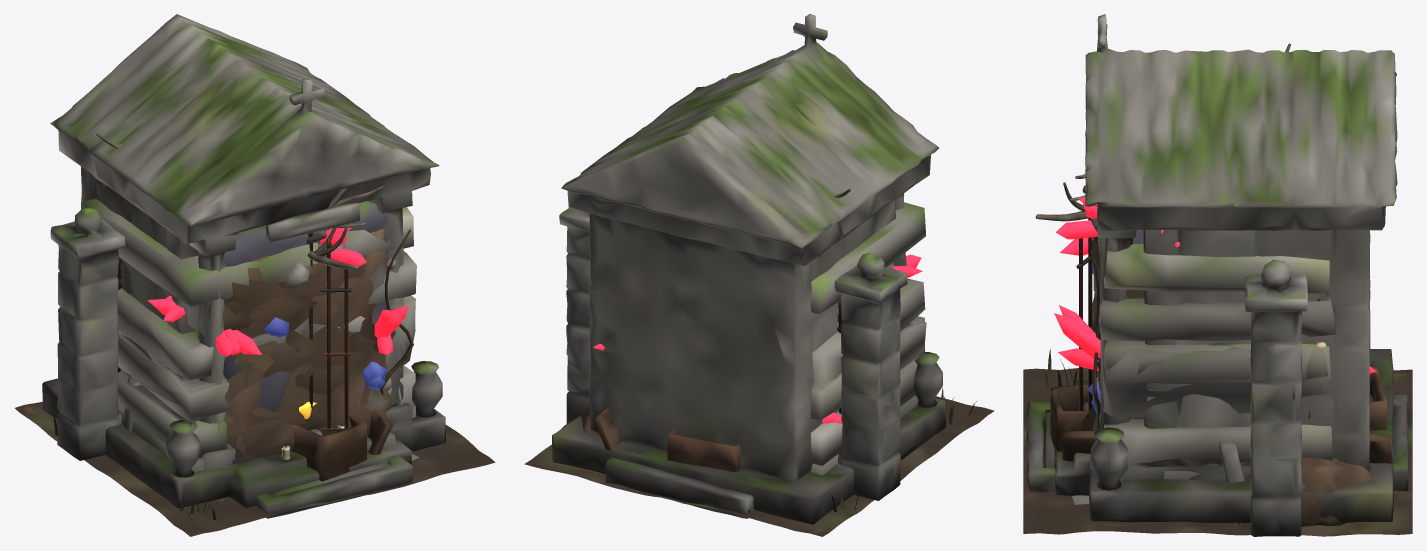
Rendered from bioma_cementerio.glb.
The picture shows the model from 3 angles, left to right: view 1: azimuth 30°, elevation 25°; view 2: azimuth 150°, elevation 25°; view 3: azimuth 270°, elevation 25°; orthographic projection. The views are drawn at different scales.
Parts seen in each view (by area): view 1: deco_mausoleo_malla, deco_reja_malla, pared_dura_b_malla, pared_dura_a_malla, veta_sangre_malla, pared_blanda_a_malla, pared_blanda_b_malla, pared_borde_malla, pared_blanda_c_malla, deco_tumba_losa_malla, veta_hierro_malla, deco_ataud_malla (+7 smaller); view 2: deco_mausoleo_malla, deco_reja_malla, pared_dura_b_malla, pared_dura_a_malla, deco_tumba_losa_malla, deco_ataud_malla, piso_a_malla, piso_d_malla, piso_b_malla, piso_c_malla, veta_sangre_malla; view 3: deco_mausoleo_malla, pared_dura_a_malla, deco_reja_malla, pared_dura_b_malla, piso_a_malla, deco_ataud_malla, deco_tumba_losa_malla, veta_sangre_malla, deco_fosa_malla, piso_d_malla, piso_c_malla, piso_b_malla (+3 smaller).
Part boxes in pixels (x1,y1,x2,y2): deco_mausoleo_malla: (42, 14, 445, 524); deco_reja_malla: (50, 207, 125, 460); pared_dura_b_malla: (117, 229, 415, 458); pared_dura_a_malla: (85, 198, 416, 472); veta_sangre_malla: (147, 224, 408, 458); pared_blanda_a_malla: (224, 231, 395, 462); pared_blanda_b_malla: (226, 234, 387, 440); pared_borde_malla: (197, 201, 395, 464); pared_blanda_c_malla: (226, 229, 391, 462); deco_tumba_losa_malla: (255, 456, 412, 518); veta_hierro_malla: (223, 230, 392, 426); deco_ataud_malla: (291, 409, 392, 481); deco_mausoleo_malla: (551, 14, 976, 524); deco_reja_malla: (559, 208, 907, 500); pared_dura_b_malla: (810, 278, 926, 465); pared_dura_a_malla: (810, 202, 925, 475); deco_tumba_losa_malla: (605, 457, 753, 518); deco_ataud_malla: (593, 408, 740, 472); piso_a_malla: (524, 396, 992, 536); piso_d_malla: (532, 396, 994, 536); piso_b_malla: (595, 397, 948, 529); piso_c_malla: (527, 406, 981, 535); veta_sangre_malla: (593, 254, 922, 423); deco_mausoleo_malla: (1044, 14, 1397, 529); pared_dura_a_malla: (1099, 243, 1335, 479); deco_reja_malla: (1245, 259, 1307, 536); pared_dura_b_malla: (1092, 238, 1332, 480); piso_a_malla: (1023, 368, 1412, 536); deco_ataud_malla: (1050, 366, 1392, 464); deco_tumba_losa_malla: (1026, 394, 1408, 492); veta_sangre_malla: (1054, 197, 1376, 373); deco_fosa_malla: (1245, 457, 1372, 526); piso_d_malla: (1023, 367, 1412, 536); piso_c_malla: (1023, 370, 1412, 535); piso_b_malla: (1023, 379, 1412, 536).
Bounding box in the file's own units: 2.16 × 2.65 × 2.
